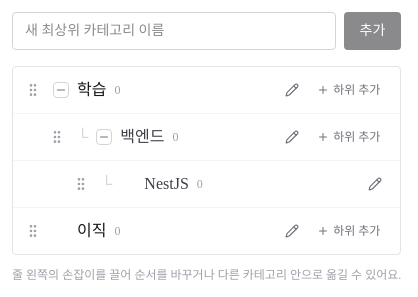
Test: CategoryManager: 폴더 접기/펼치기 (+ / −) › 접으면 하위 폴더가 모두 숨겨지고 버튼이 '펼치기'(+)로 바뀐다
Expected: the text "NestJS" is shown, [144,172,189,196]
Click the button named "학습 접기" at point(61, 90), box [53,82,69,98]
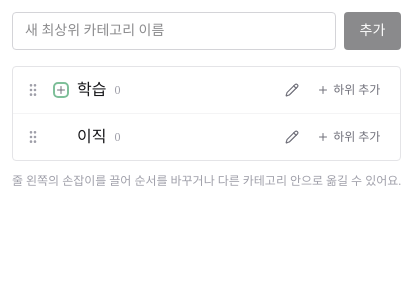
Result: the text "백엔드" is gone
Result: the text "NestJS" is gone
Result: the button named "학습 펼치기" is collapsed at [53,82,69,98]
